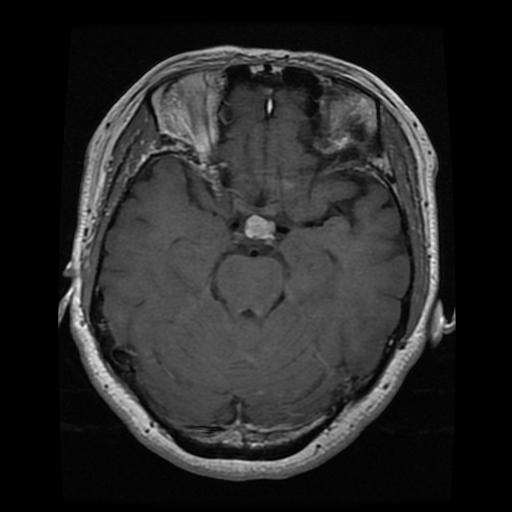Pituirity_tumour: (244, 214, 276, 243)
